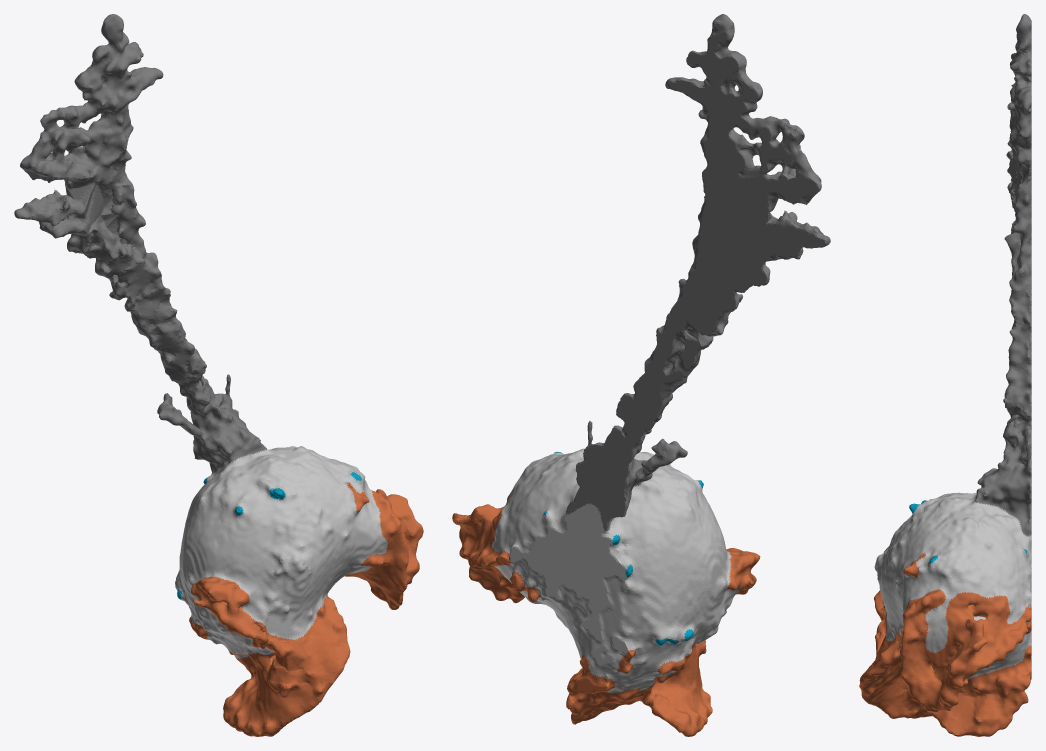
3 views of the same model, side by side, from view 1: azimuth 30°, elevation 25°; view 2: azimuth 150°, elevation 25°; view 3: azimuth 270°, elevation 25° (orthographic). The views are drawn at different scales.
Bounding box in the file's own units: 197 × 356 × 83.4.
